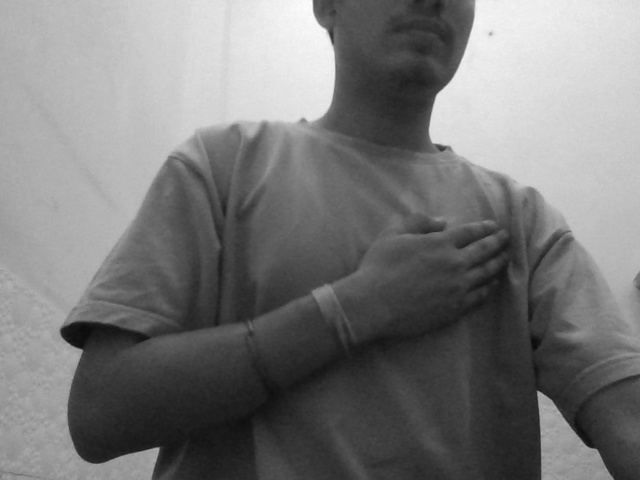Sorry: (293, 181, 553, 379)
